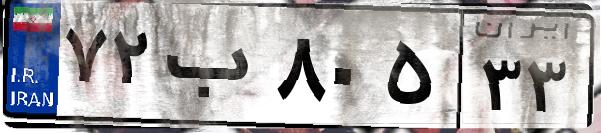0: (330, 28, 385, 110)
2: (110, 28, 158, 98)
3: (475, 38, 525, 113), (525, 38, 570, 115)
5: (385, 28, 445, 110)
7: (57, 26, 110, 100)
8: (270, 28, 330, 110)
ب: (158, 20, 270, 120)
